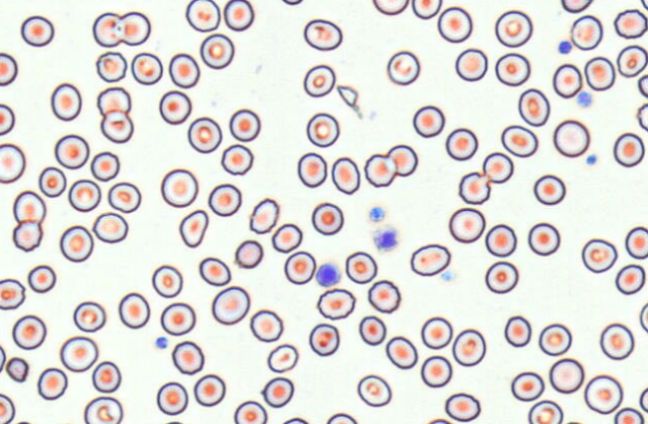PLT: (371, 223, 399, 253), (316, 261, 342, 289), (154, 335, 172, 351), (558, 37, 573, 55), (370, 205, 386, 221), (579, 91, 594, 108), (586, 153, 597, 164)
RBC: (211, 285, 250, 325), (584, 374, 623, 414), (160, 168, 198, 207), (494, 9, 532, 47), (59, 335, 98, 372), (553, 119, 590, 157), (448, 207, 485, 243), (599, 322, 634, 360), (410, 243, 450, 276), (187, 116, 222, 153), (437, 6, 472, 43), (199, 33, 234, 69), (581, 238, 617, 273), (59, 225, 93, 262), (517, 88, 550, 126), (500, 124, 538, 157), (452, 328, 485, 366), (316, 288, 355, 320), (303, 18, 342, 50), (54, 134, 89, 169), (549, 358, 584, 393), (494, 52, 530, 86), (50, 82, 81, 121), (115, 11, 150, 45), (12, 314, 46, 349), (386, 50, 420, 85), (160, 302, 196, 335), (118, 292, 150, 329), (306, 112, 339, 147), (356, 374, 391, 407), (570, 15, 603, 50), (92, 211, 128, 243), (168, 52, 200, 88), (100, 109, 133, 143), (12, 190, 46, 223), (249, 309, 283, 342), (367, 279, 400, 313), (283, 250, 316, 284), (171, 340, 204, 374), (83, 396, 123, 424), (185, 0, 220, 32), (331, 156, 360, 194), (179, 209, 208, 247), (68, 179, 101, 212), (527, 222, 560, 255), (445, 127, 478, 160), (208, 183, 241, 216), (485, 260, 518, 293), (538, 323, 571, 356), (364, 153, 396, 187), (193, 373, 225, 407), (20, 15, 54, 47), (151, 264, 183, 298), (156, 381, 188, 415), (107, 181, 141, 213), (385, 335, 417, 369), (159, 90, 191, 124), (613, 132, 644, 167), (584, 56, 615, 91), (249, 198, 279, 234), (444, 392, 480, 422), (458, 171, 490, 204), (420, 316, 452, 349), (261, 376, 294, 408), (345, 251, 377, 284), (311, 202, 343, 235), (455, 48, 487, 81), (130, 52, 162, 85), (303, 64, 335, 97), (485, 223, 516, 257), (92, 12, 122, 47), (297, 152, 327, 187), (552, 63, 582, 98), (221, 143, 253, 175), (412, 105, 444, 137), (420, 355, 452, 387), (73, 301, 106, 332), (308, 323, 339, 356), (229, 108, 260, 141), (613, 9, 647, 39), (510, 371, 544, 401), (0, 143, 25, 183), (386, 144, 417, 176), (482, 151, 513, 183), (12, 219, 43, 251), (533, 174, 565, 205), (95, 51, 127, 82), (616, 45, 647, 77), (37, 367, 67, 400), (91, 360, 121, 393), (198, 256, 231, 286), (97, 86, 131, 115), (223, 0, 254, 31), (615, 263, 645, 295), (267, 343, 298, 373), (271, 223, 302, 253), (90, 151, 119, 181), (38, 166, 66, 197), (504, 315, 531, 347), (234, 239, 263, 268), (27, 264, 56, 293), (528, 399, 563, 423), (358, 315, 386, 345), (0, 278, 26, 309), (233, 400, 267, 423), (625, 226, 648, 259), (0, 52, 17, 86), (411, 0, 441, 19), (372, 0, 408, 15), (613, 407, 644, 423), (0, 103, 15, 135), (0, 393, 15, 423), (560, 0, 593, 13), (325, 412, 357, 423), (636, 102, 648, 131), (639, 302, 648, 332), (637, 74, 648, 98), (280, 416, 310, 424), (639, 386, 648, 412), (0, 344, 6, 373), (426, 417, 453, 423), (281, 0, 303, 5), (562, 420, 586, 424), (161, 420, 185, 424), (640, 0, 648, 10), (13, 420, 32, 424)
Schistocyte: (7, 357, 30, 383), (337, 84, 359, 107)
